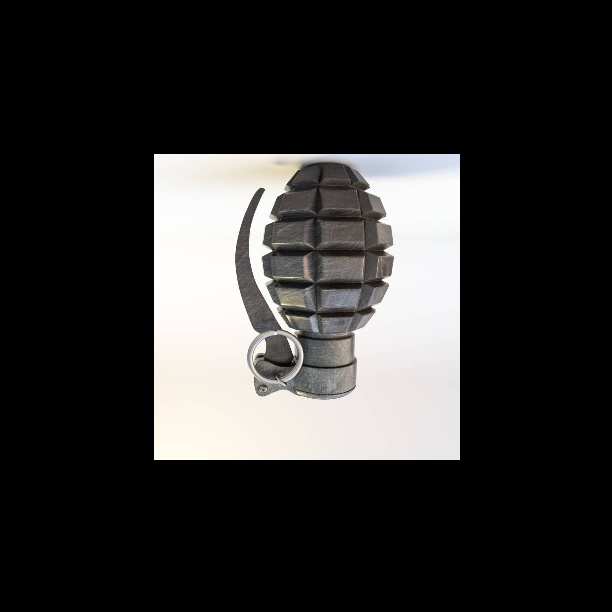e1: (235, 165, 396, 401)
